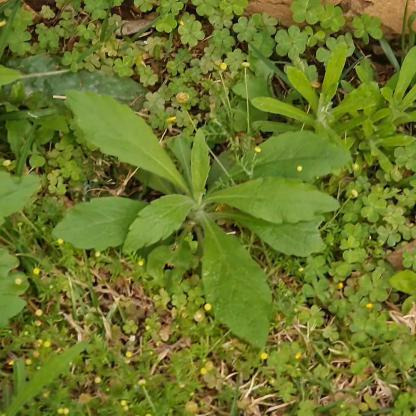Weeds: (56, 89, 350, 350), (249, 42, 376, 164)
